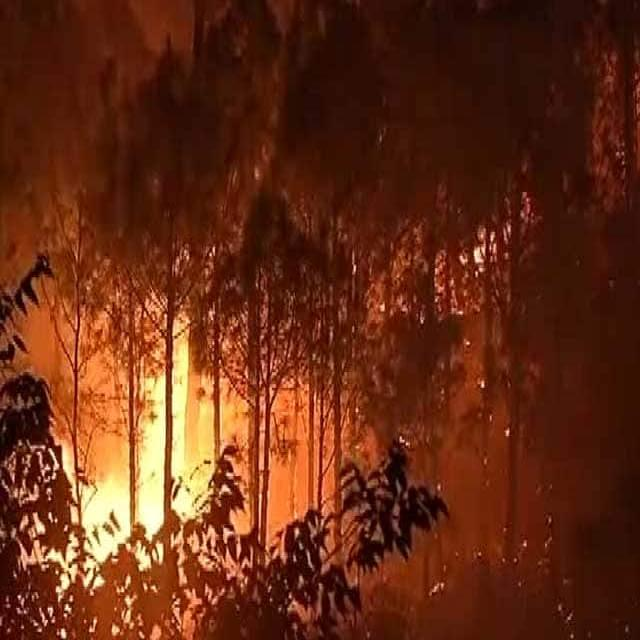Fire: (60, 309, 188, 581)
